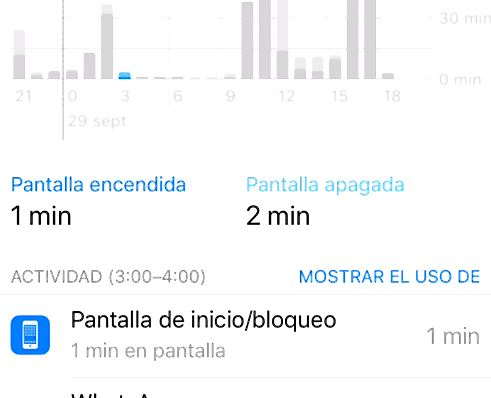activity: (4, 262, 217, 294)
app: (5, 302, 487, 364)
